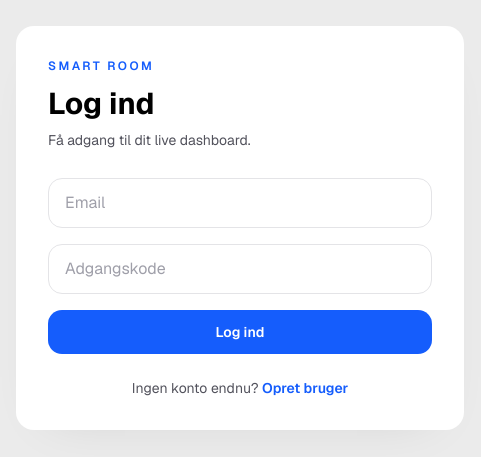
Scenario: LoginPage – formvalidering › viser fejl, når password-feltet er tomt
Agér: udfyld kun email og klik submit
Type "test@example.com" into the field with placeholder "Email" at (240, 203), box [48,178,432,228]
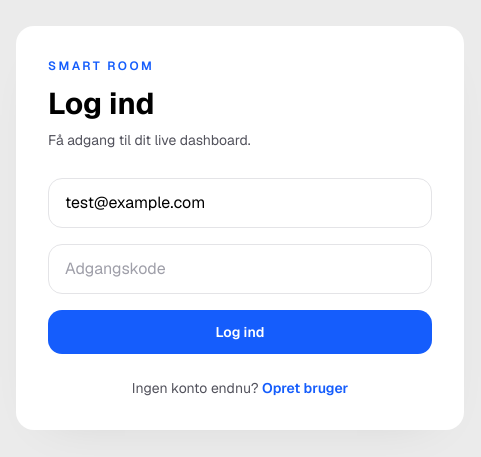
Click the button "Log ind" at (240, 332), box [48,310,432,354]
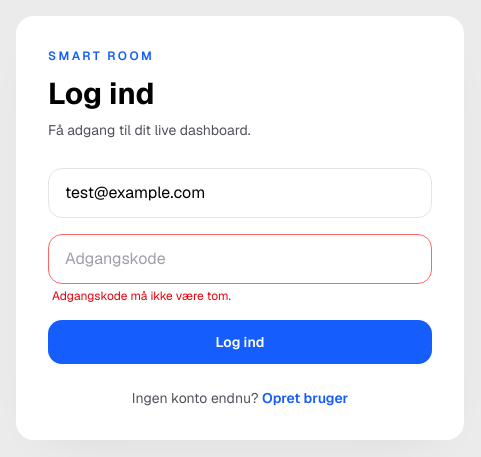
expect the text "Adgangskode må ikke være tom." is shown: met, box [52,288,231,304]
